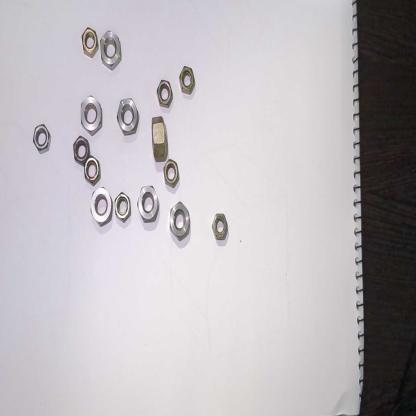NUTS: (77, 92, 107, 140), (96, 26, 124, 72), (136, 181, 161, 227), (88, 185, 113, 228), (116, 96, 140, 140), (150, 111, 167, 170), (168, 200, 193, 240), (158, 155, 182, 188), (176, 64, 199, 98), (79, 24, 99, 62), (209, 210, 231, 244), (82, 154, 104, 187), (69, 133, 92, 164), (113, 188, 132, 223), (155, 77, 174, 111), (32, 122, 50, 157)
